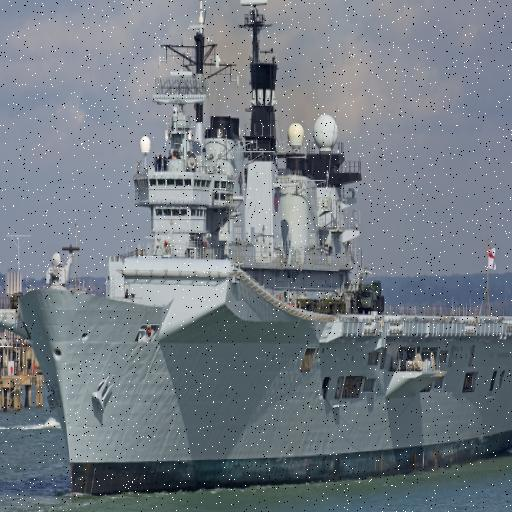Portanaves: (1, 1, 512, 508)
